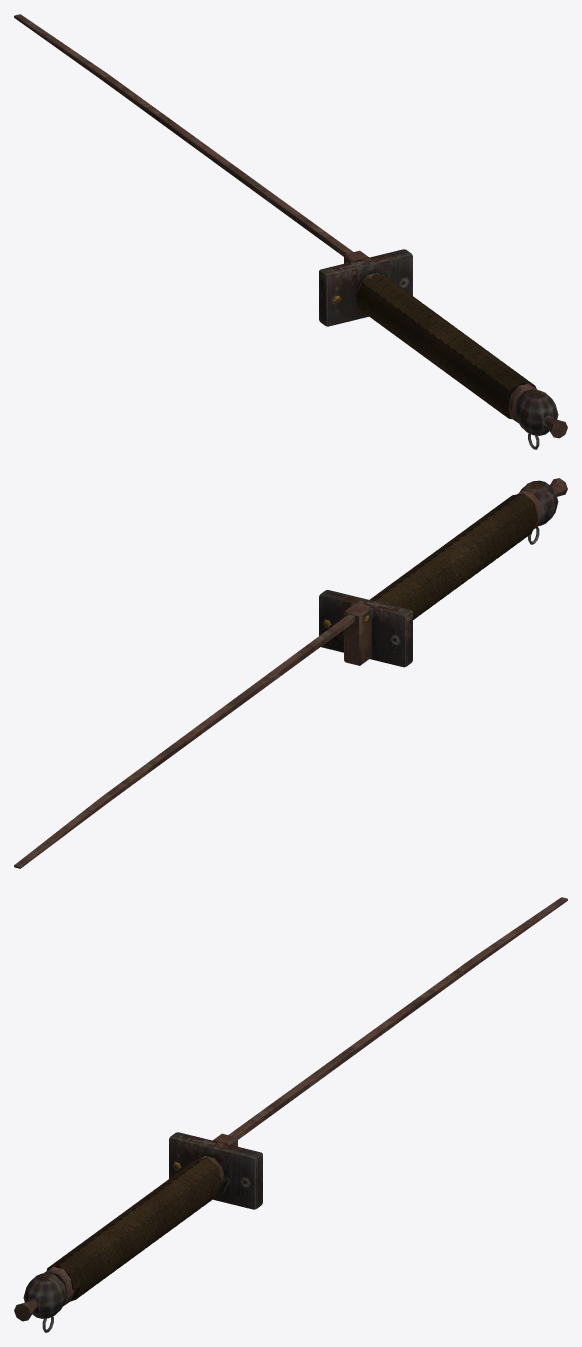
File: klinok.glb
3 renders of one model, top to bottom at view 1: azimuth 30°, elevation 25°; view 2: azimuth 150°, elevation 25°; view 3: azimuth 330°, elevation 25°, orthographic.
Parts seen in each view (by area): view 1: klinok; view 2: klinok; view 3: klinok.
Boxes of the visible parts, x1,y1,x2,y2 form: klinok: [14, 14, 567, 449]; klinok: [14, 478, 567, 868]; klinok: [14, 897, 567, 1332].
Bounding box in the file's own units: 0.104 × 0.0738 × 1.12.
1 material, 1 textured.
